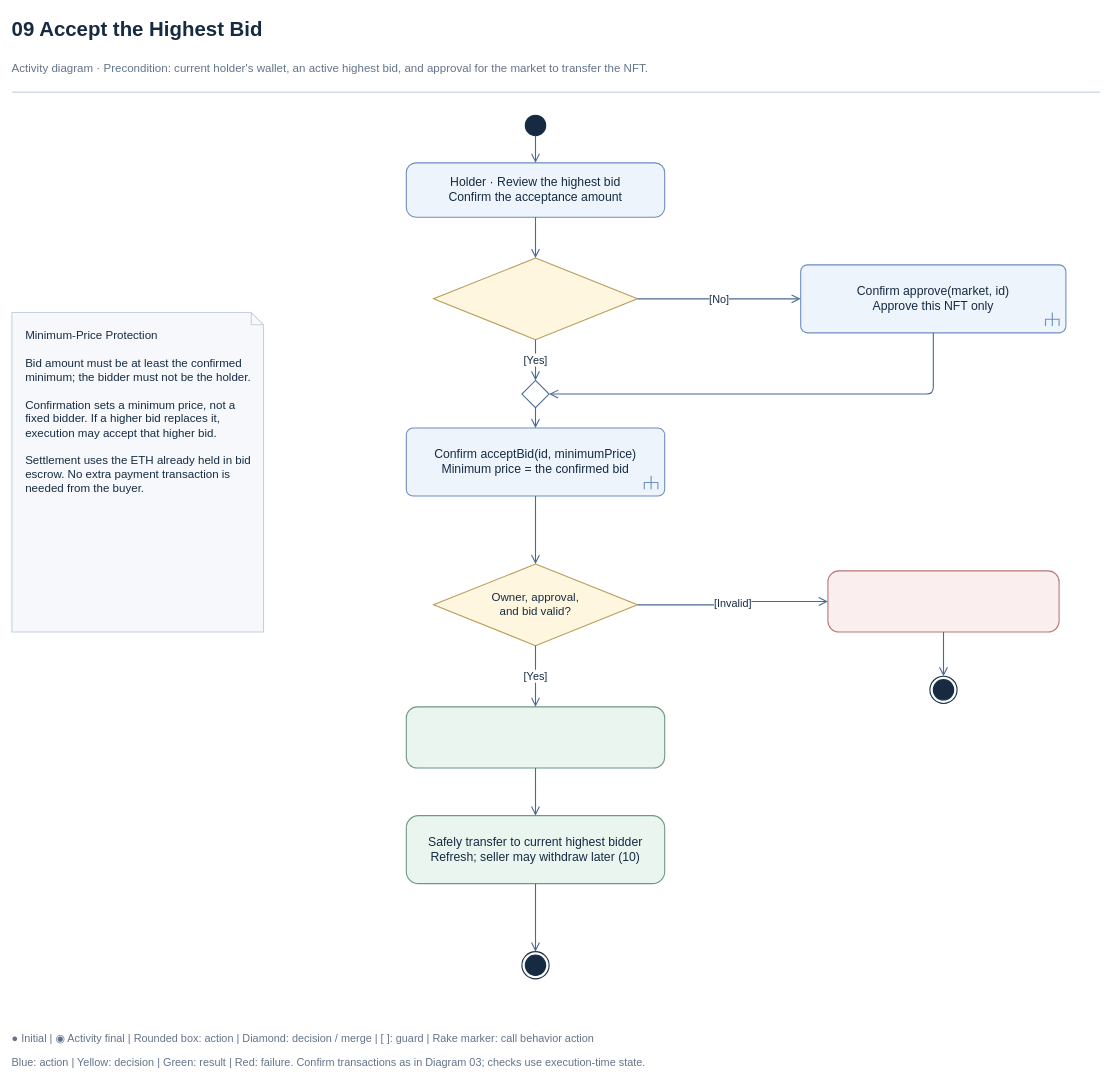
The diagram is 1112 pixels wide and 1082 high, and some of its shapes have lost their labels. Here are the shapes that lost their labels. From the top down, the centre of each, then its label:
the point at 535,298: Market already approved?
the point at 943,601: Invalid owner, approval, minimum price, or withdrawn bid: revert transaction
the point at 535,737: Market · Delete bid and listing Credit seller's pending balance
